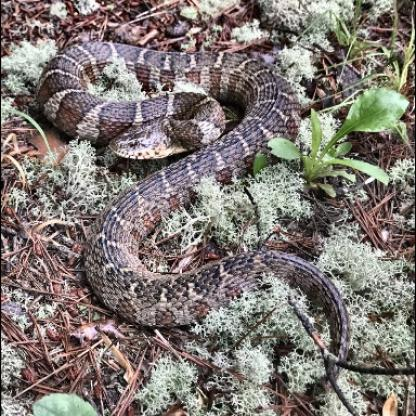Snake: (17, 20, 364, 378)
